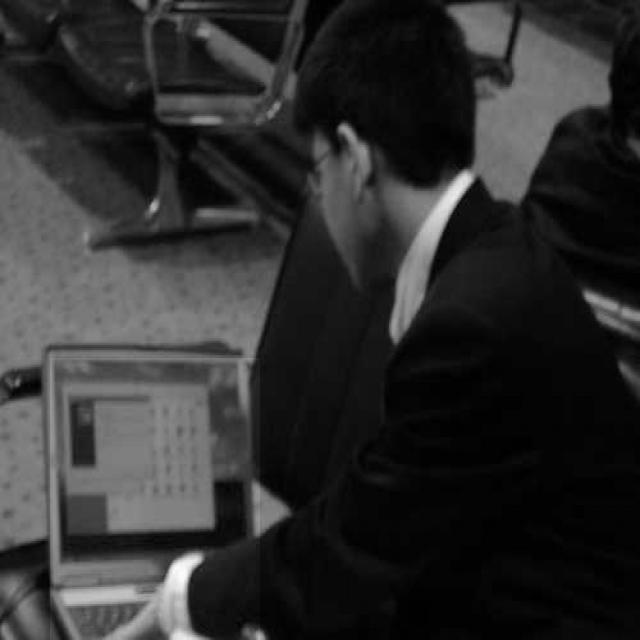-keyboard-: (51, 358, 260, 640)
